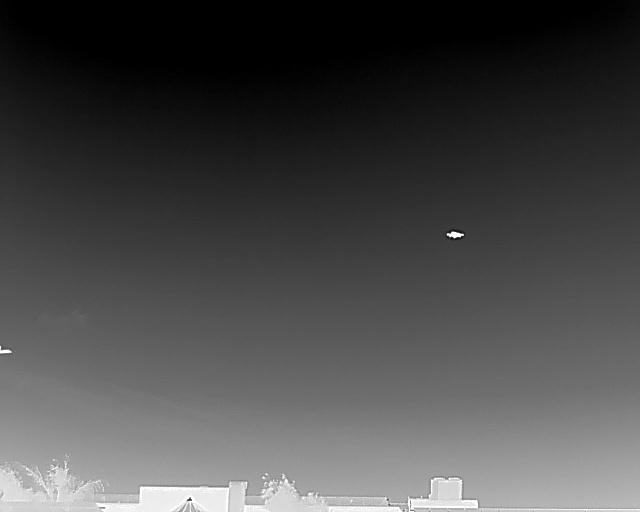fpv-drone: (446, 230, 464, 239)
